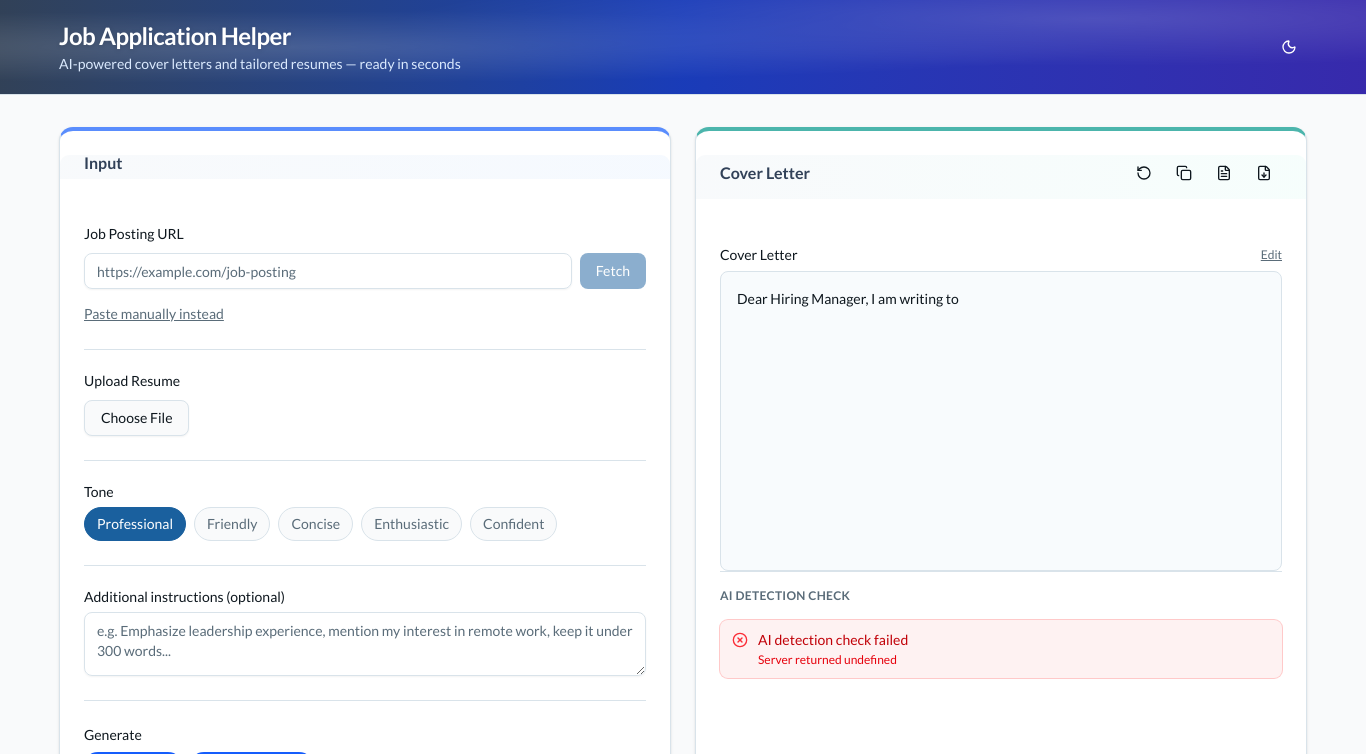
Scenario: Integration tests › stream interruption: partial text remains visible and exportable
This screenshot has width=1366, height=754.
Expected: the text with test id "rich-preview" reads "Dear Hiring Manager, I am writing to", [737,290,959,307]
Expected: the button named "copy" is enabled, [1166,155,1202,191]
// User can click Edit to get textarea for editing
Click the button "Edit" at (1271, 255), box [1261,247,1282,263]
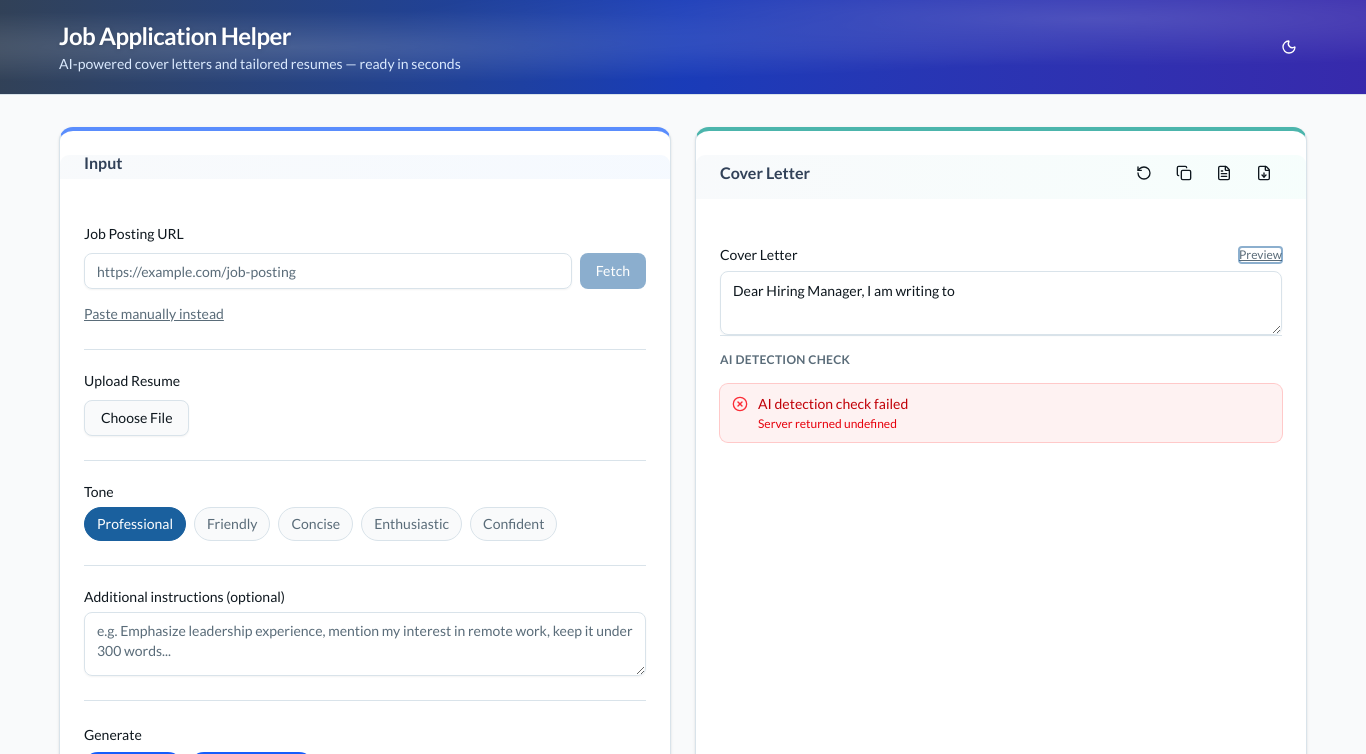
Now the text box labelled "Cover Letter" holds "Dear Hiring Manager, I am writing to", box [720,271,1282,335]
